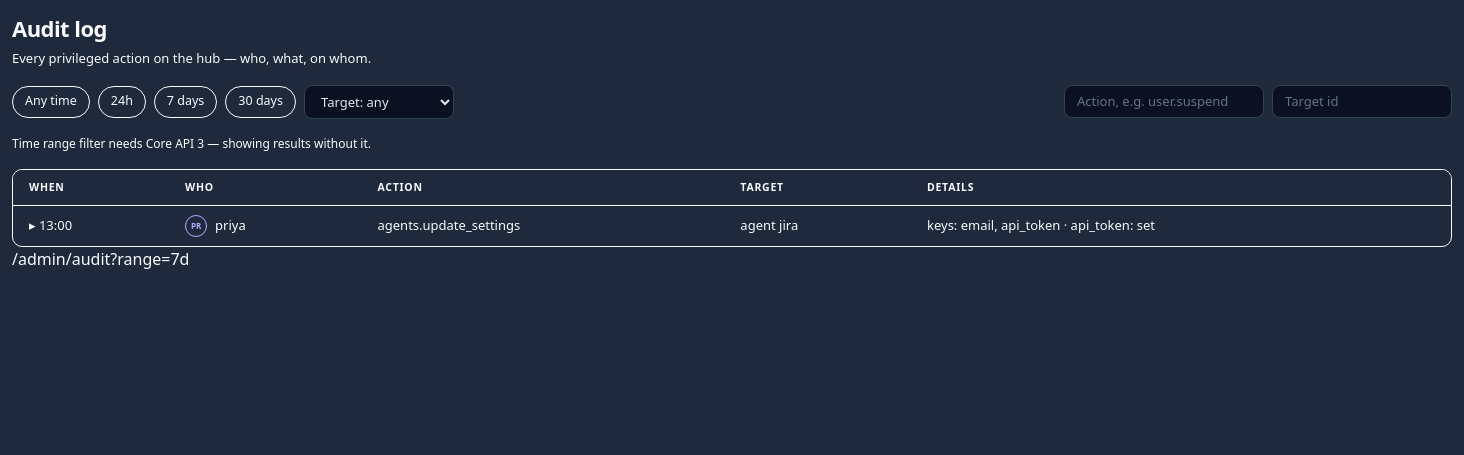
Scenario: Admin › Daemons / Teams / Audit › audit: notes unsupported filters; expanded details never show secret values
The width and height of the screenshot is (1464, 455).
Expected: the text "Time range filter needs Core API 3" is shown, [12,134,371,152]
Click the row with test id "audit-a1" at (230, 225), box [13,206,1451,246]
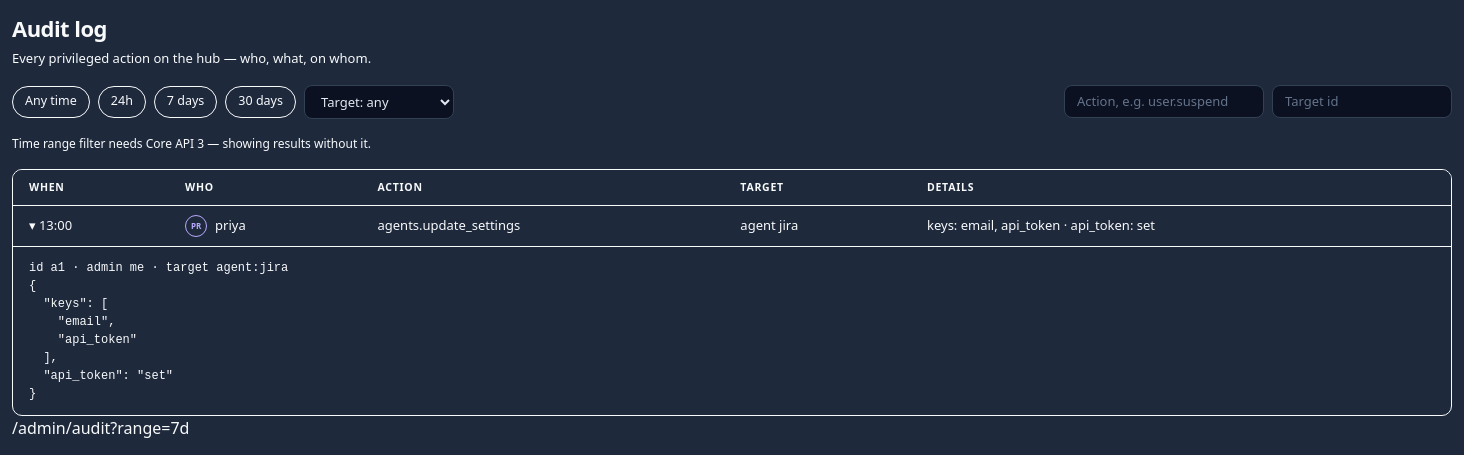
Result: the text "\"api_token\": \"set\"" is shown at [29,279,173,401]
